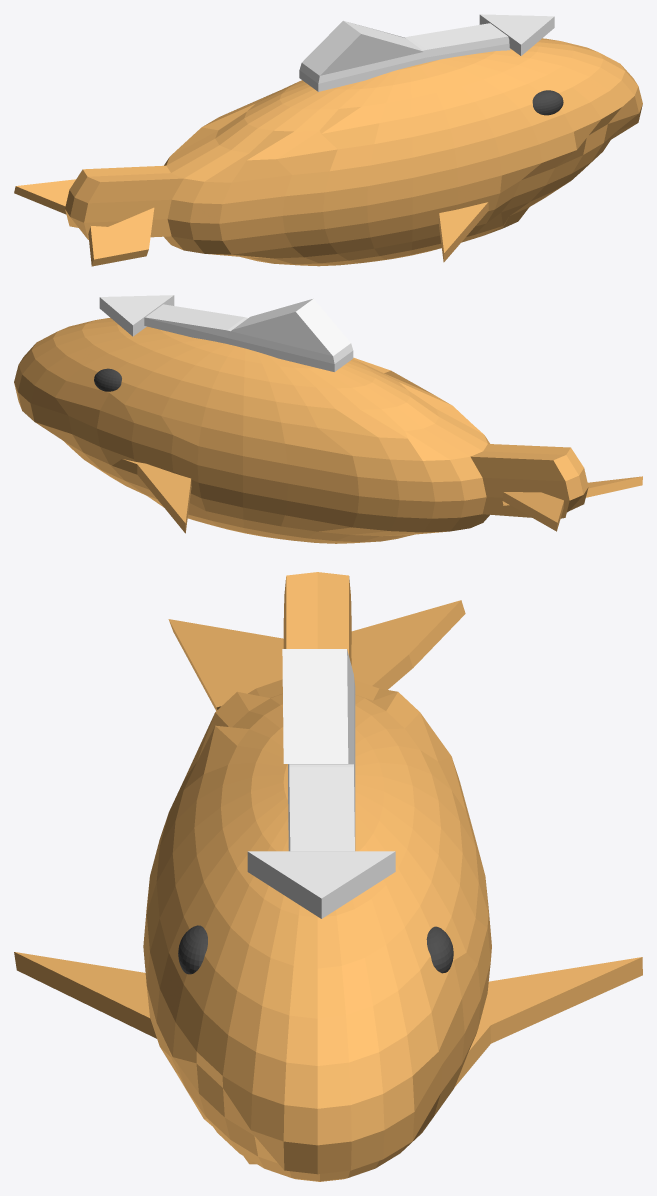
The model's file is SharkOrange.fbx.
The picture shows the model from 3 angles, top to bottom: view 1: azimuth 30°, elevation 25°; view 2: azimuth 150°, elevation 25°; view 3: azimuth 270°, elevation 25°; orthographic projection. The views are drawn at different scales.
Parts seen in each view (by area): view 1: Shark; view 2: Shark; view 3: Shark.
Boxes of the visible parts, x1,y1,x2,y2 form: Shark: (14, 14, 642, 266); Shark: (14, 295, 642, 543); Shark: (14, 572, 642, 1181).
Size of the model in its own units: 799 by 303 by 416.
